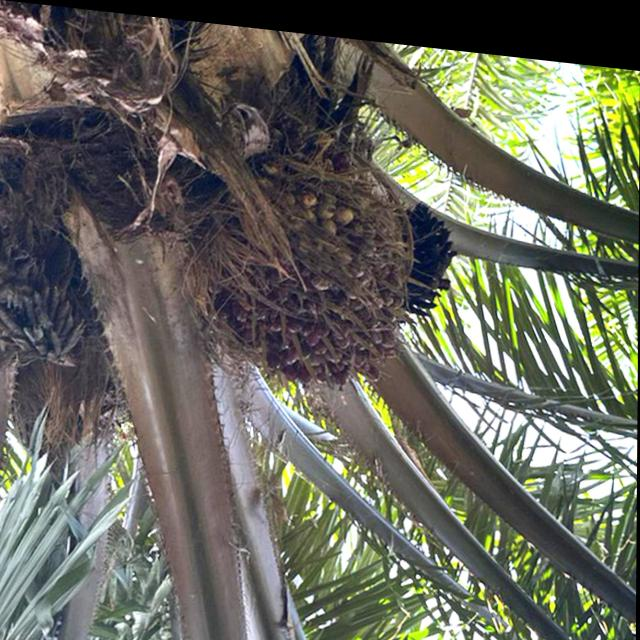ripe: (159, 95, 447, 414)
